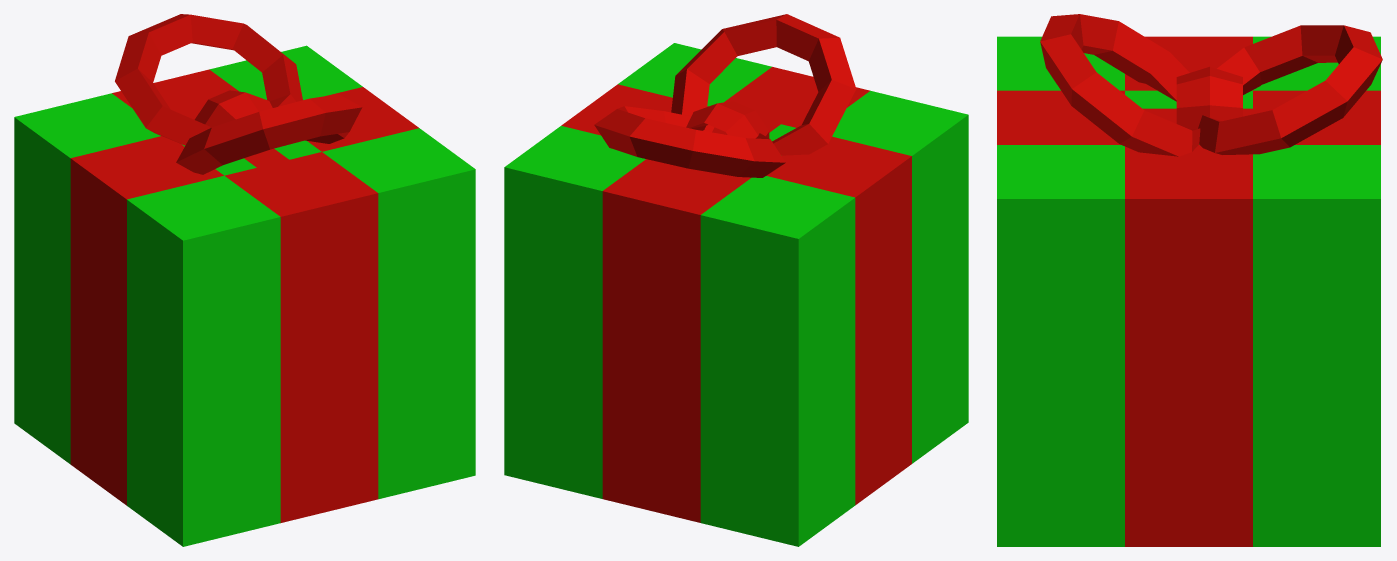
The model's file is present2.fbx.
3 views of the same model, side by side, from view 1: azimuth 30°, elevation 25°; view 2: azimuth 150°, elevation 25°; view 3: azimuth 270°, elevation 25° (orthographic). The views are drawn at different scales.
Visible parts, largest first — view 1: Cube.002; view 2: Cube.002; view 3: Cube.002.
Boxes of the visible parts, x1=… form: Cube.002: x1=14, y1=14, x2=475, y2=546; Cube.002: x1=504, y1=14, x2=968, y2=546; Cube.002: x1=997, y1=14, x2=1382, y2=546.
Size of the model in its own units: 58.5 by 73.69 by 58.77.
